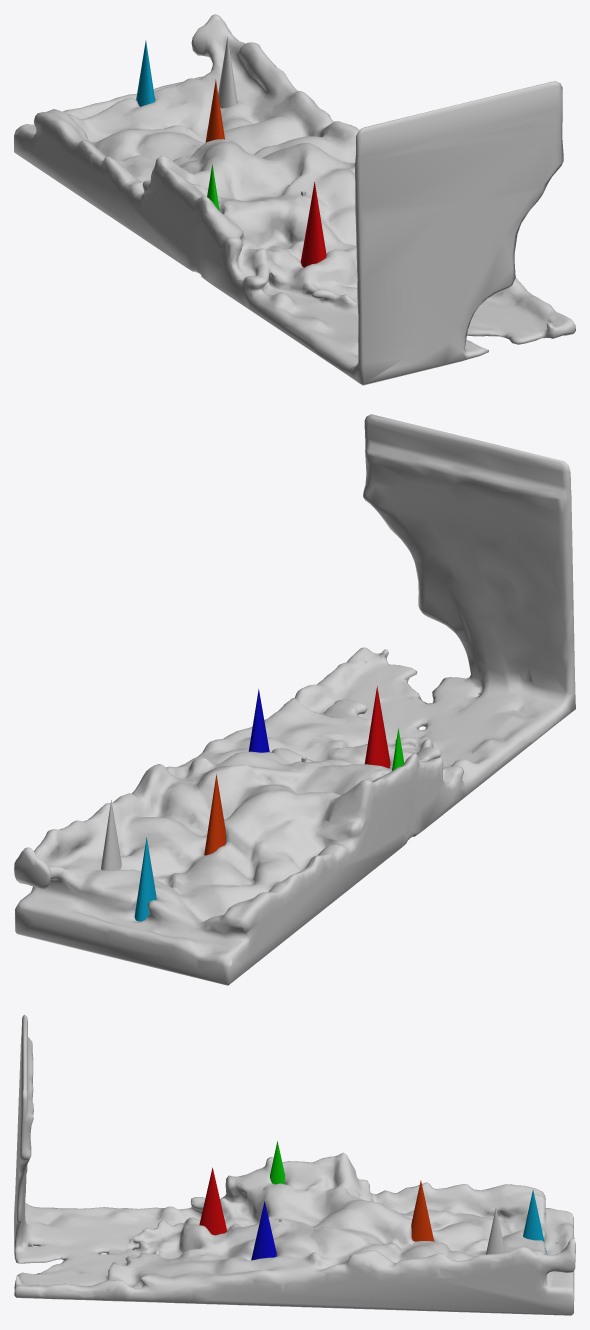
The picture shows the model from 3 angles, top to bottom: view 1: azimuth 30°, elevation 25°; view 2: azimuth 150°, elevation 25°; view 3: azimuth 270°, elevation 25°; orthographic projection. The views are drawn at different scales.
Visible parts, largest first — view 1: Liquid_Domain, 円錐.001, 円錐, 円錐.005, 円錐.004; view 2: Liquid_Domain, 円錐.001, 円錐.004, 円錐.005, 円錐, 円錐.002; view 3: Liquid_Domain, 円錐.001, 円錐.004, 円錐.002, 円錐.005, 円錐, 円錐.003.
Boxes of the visible parts, <box> form: Liquid_Domain: <box>14,14,575,385</box>; 円錐.001: <box>300,182,326,267</box>; 円錐: <box>218,37,237,108</box>; 円錐.005: <box>136,40,155,106</box>; 円錐.004: <box>205,79,224,142</box>; Liquid_Domain: <box>14,414,575,985</box>; 円錐.001: <box>364,686,390,768</box>; 円錐.004: <box>204,774,225,855</box>; 円錐.005: <box>134,837,156,921</box>; 円錐: <box>101,800,121,870</box>; 円錐.002: <box>248,689,269,752</box>; Liquid_Domain: <box>14,1014,575,1315</box>; 円錐.001: <box>199,1167,226,1235</box>; 円錐.004: <box>411,1180,434,1241</box>; 円錐.002: <box>251,1201,276,1260</box>; 円錐.005: <box>523,1189,546,1251</box>; 円錐: <box>486,1208,505,1254</box>; 円錐.003: <box>270,1141,284,1184</box>.
Bounding box in the file's own units: 129 × 157 × 362.
